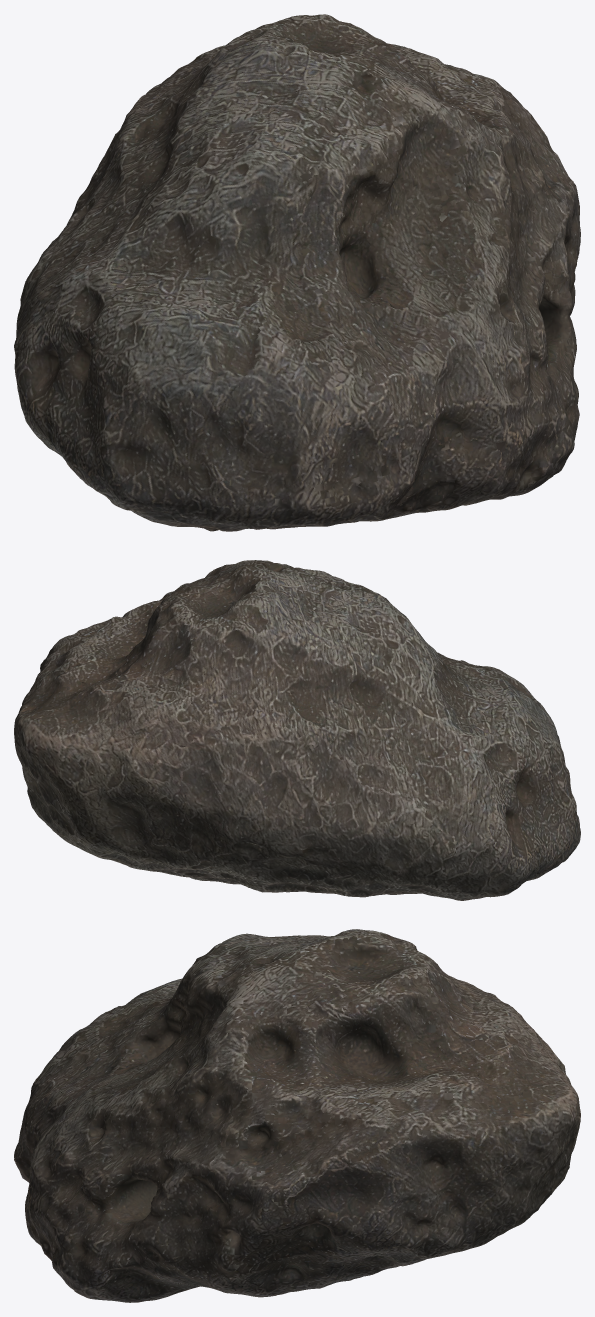
File: asteroid_common_4.glb
3 renders of one model, top to bottom at view 1: azimuth 30°, elevation 25°; view 2: azimuth 150°, elevation 25°; view 3: azimuth 270°, elevation 25°, orthographic. The views are drawn at different scales.
Parts seen in each view (by area): view 1: model; view 2: model; view 3: model.
Boxes of the visible parts, box(x1,y1,x2,y2) form: model: box(14, 14, 580, 531); model: box(14, 560, 580, 900); model: box(14, 929, 580, 1302).
Size of the model in its own units: 1.84 by 1.23 by 1.89.
1 material, 1 textured.
